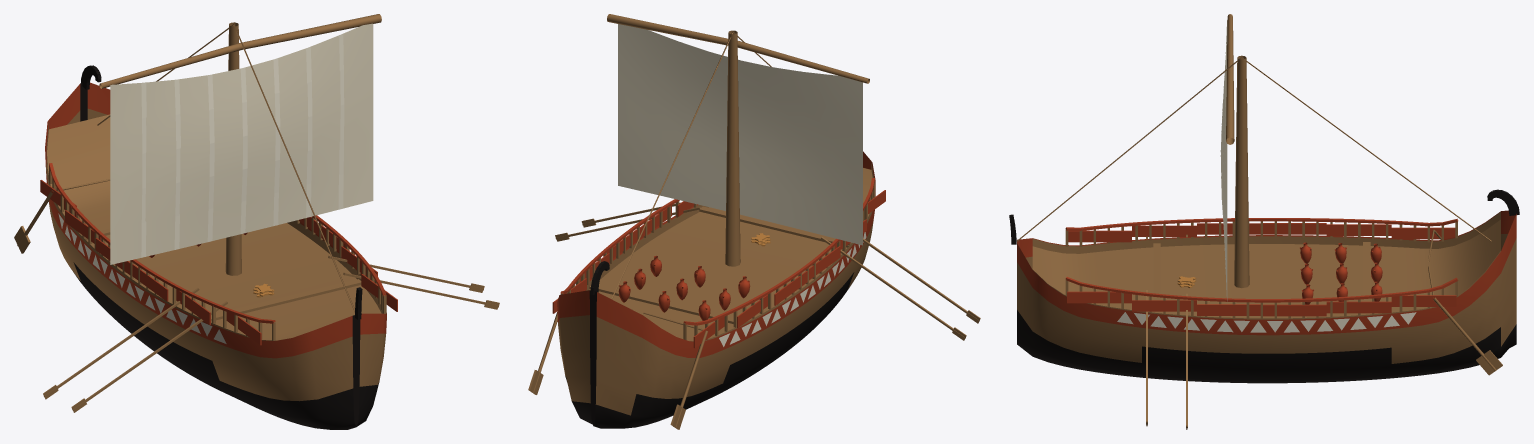
Rendered from ship_merchant_blockout_LOD0.obj.
3 renders of one model, left to right at view 1: azimuth 30°, elevation 25°; view 2: azimuth 150°, elevation 25°; view 3: azimuth 270°, elevation 25°, orthographic. The views are drawn at different scales.
Parts seen in each view (by area): view 1: ship_merchant_blockout_LOD0; view 2: ship_merchant_blockout_LOD0; view 3: ship_merchant_blockout_LOD0.
Part boxes in pixels (<box>): ship_merchant_blockout_LOD0: <box>14,14,499,429</box>; ship_merchant_blockout_LOD0: <box>528,14,980,429</box>; ship_merchant_blockout_LOD0: <box>1009,14,1519,429</box>.
Bounding box in the file's own units: 22.17 × 16.14 × 24.22.
